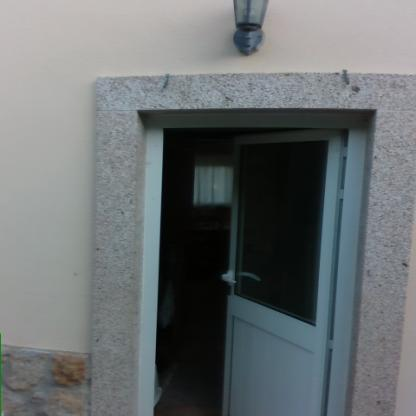semi: (126, 92, 374, 413)
